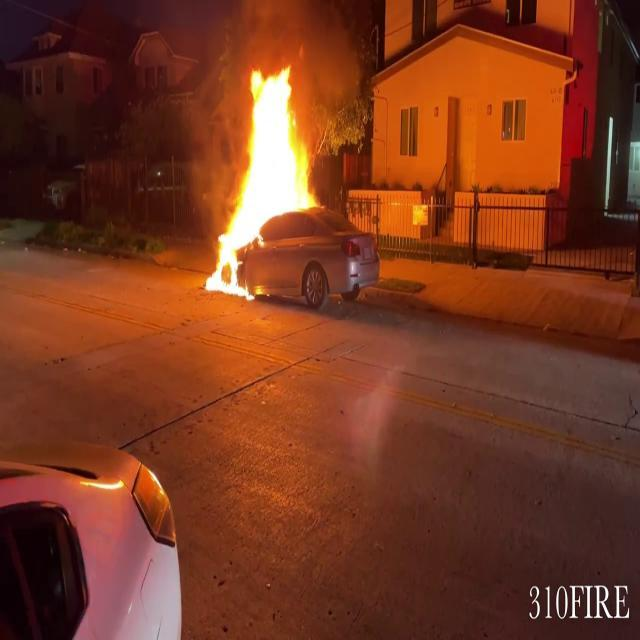Fire: (204, 59, 324, 297)
